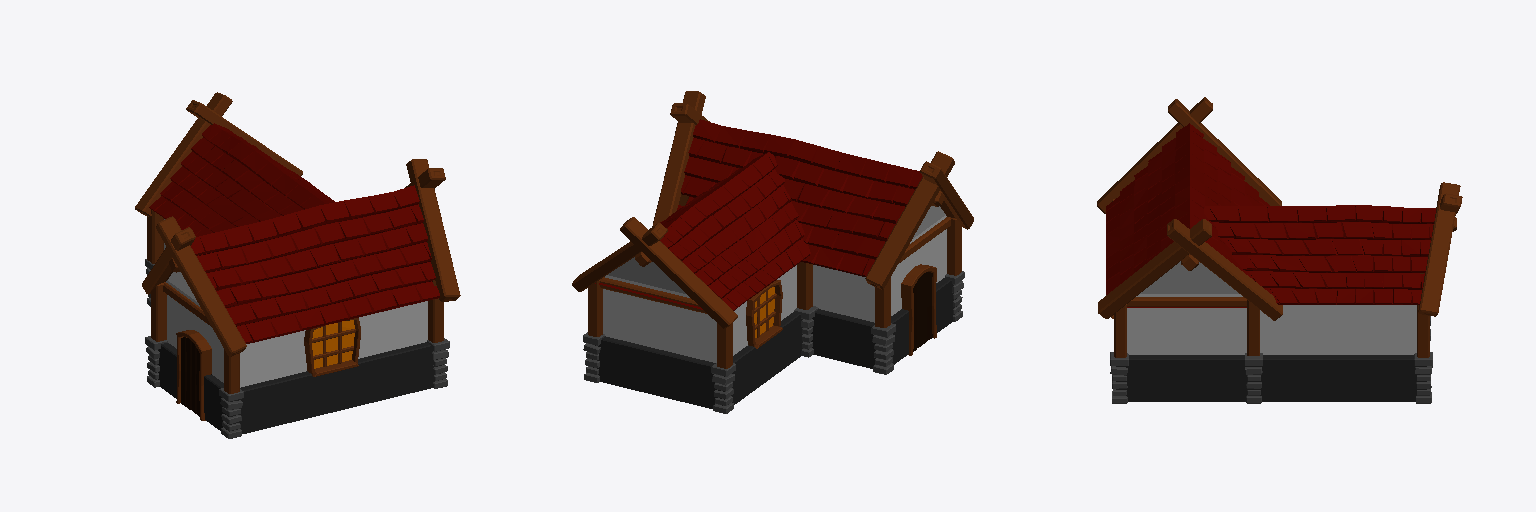
File: house_2.obj
The picture shows the model from 3 angles: view 1: azimuth 30°, elevation 25°; view 2: azimuth 150°, elevation 25°; view 3: azimuth 270°, elevation 25°; orthographic projection.
Visible parts, largest first — view 1: roof_Cube.004, Cube.003_Cube.006, Cube.004_Cube.007, COLLISION_Cube.001, Cube.008_Cube.010, Cube.006_Cube.009, Cube.002_Cube.003; view 2: roof_Cube.004, Cube.003_Cube.006, Cube.004_Cube.007, COLLISION_Cube.001, Cube.002_Cube.003, Cube.006_Cube.009, Cube.007_Cube; view 3: roof_Cube.004, Cube.003_Cube.006, Cube.004_Cube.007, COLLISION_Cube.001, Cube.002_Cube.003.
Part boxes in pixels (bbox=[...]): roof_Cube.004: bbox=[149, 123, 439, 343]; Cube.003_Cube.006: bbox=[158, 247, 441, 433]; Cube.004_Cube.007: bbox=[135, 92, 460, 393]; COLLISION_Cube.001: bbox=[164, 219, 427, 387]; Cube.008_Cube.010: bbox=[304, 318, 360, 376]; Cube.006_Cube.009: bbox=[176, 330, 211, 420]; Cube.002_Cube.003: bbox=[145, 259, 449, 438]; roof_Cube.004: bbox=[595, 119, 922, 310]; Cube.003_Cube.006: bbox=[592, 216, 956, 408]; Cube.004_Cube.007: bbox=[572, 91, 973, 368]; COLLISION_Cube.001: bbox=[603, 206, 946, 362]; Cube.002_Cube.003: bbox=[583, 271, 964, 413]; Cube.006_Cube.009: bbox=[901, 264, 936, 355]; Cube.007_Cube: bbox=[746, 280, 782, 348]; roof_Cube.004: bbox=[1106, 123, 1435, 307]; Cube.003_Cube.006: bbox=[1116, 294, 1426, 401]; Cube.004_Cube.007: bbox=[1097, 97, 1462, 357]; COLLISION_Cube.001: bbox=[1127, 261, 1416, 354]; Cube.002_Cube.003: bbox=[1110, 316, 1432, 403].
Size of the model in its own units: 8.18 by 5.56 by 9.56.